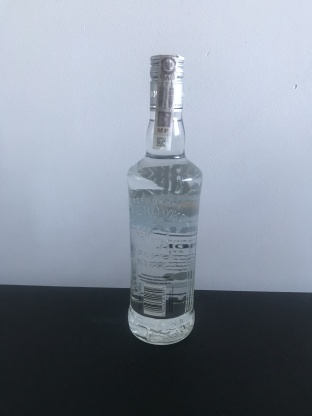nakretka: (147, 51, 186, 114)
